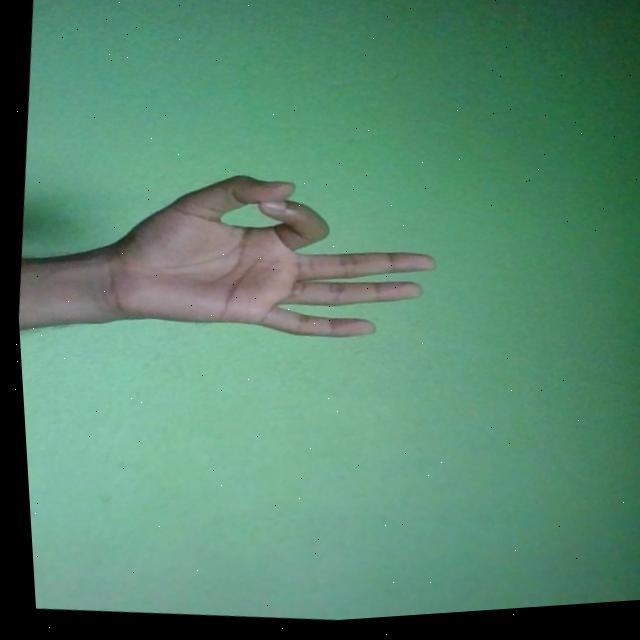Ok: (87, 153, 443, 363)
